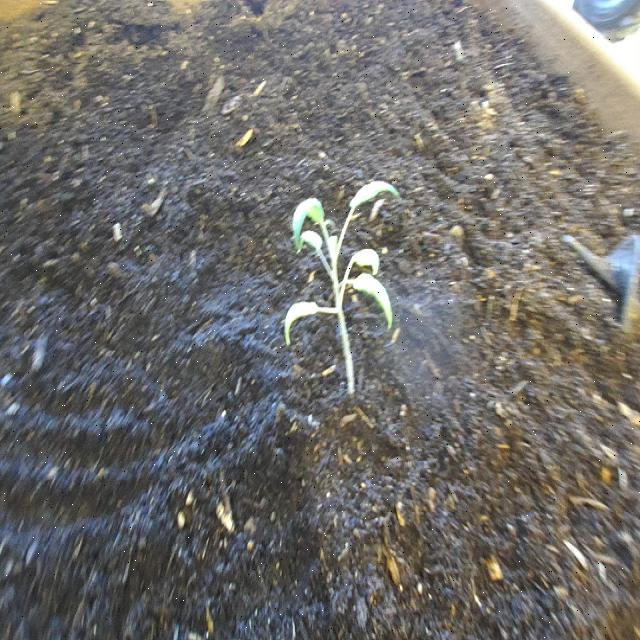Healthy: (281, 174, 405, 404)
